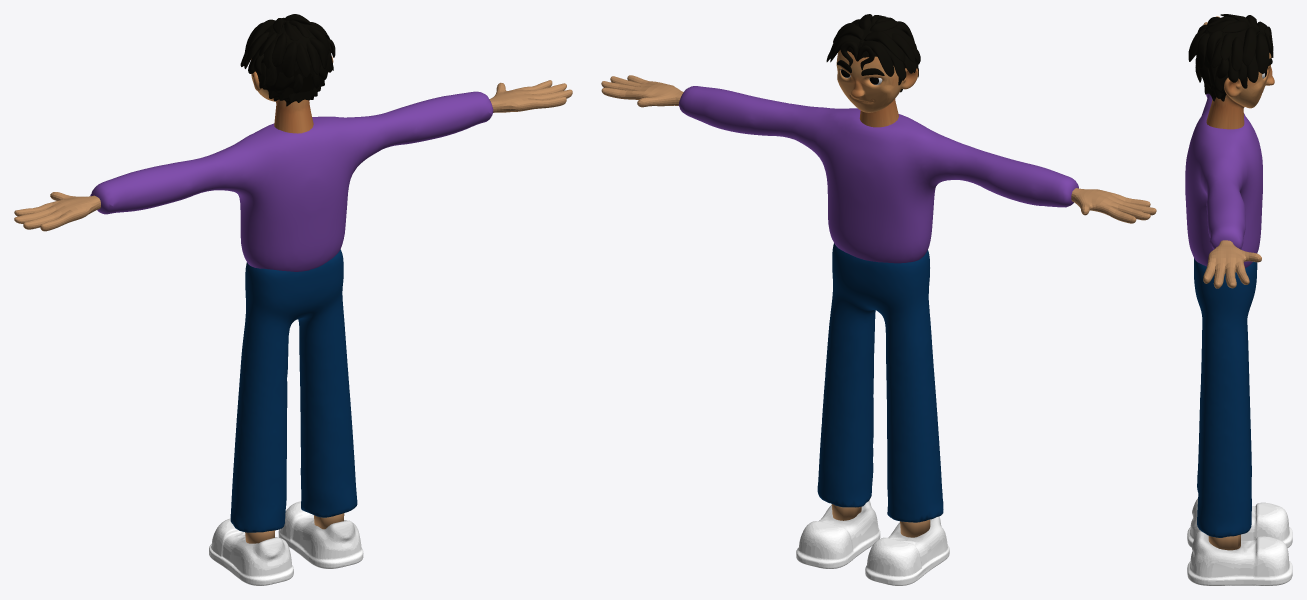
The picture shows the model from 3 angles, left to right: view 1: azimuth 30°, elevation 25°; view 2: azimuth 150°, elevation 25°; view 3: azimuth 270°, elevation 25°; orthographic projection.
Visible parts, largest first — view 1: Cube, PANTS, shoe, heart, Plane, head; view 2: Cube, PANTS, shoe, heart, Plane, head, abkle; view 3: PANTS, Cube, shoe, heart, head, Plane, abkle.
Boxes of the visible parts, x1=… form: Cube: x1=90, y1=91, x2=493, y2=271; PANTS: x1=230, y1=249, x2=357, y2=532; shoe: x1=209, y1=501, x2=363, y2=585; heart: x1=240, y1=14, x2=335, y2=106; Plane: x1=14, y1=80, x2=572, y2=231; head: x1=251, y1=56, x2=333, y2=133; Cube: x1=678, y1=86, x2=1078, y2=263; PANTS: x1=817, y1=243, x2=943, y2=522; shoe: x1=796, y1=500, x2=949, y2=585; heart: x1=826, y1=14, x2=920, y2=92; Plane: x1=601, y1=75, x2=1156, y2=223; head: x1=836, y1=50, x2=918, y2=127; abkle: x1=831, y1=504, x2=930, y2=537; PANTS: x1=1194, y1=258, x2=1257, y2=537; Cube: x1=1185, y1=93, x2=1262, y2=267; shoe: x1=1187, y1=498, x2=1292, y2=585; heart: x1=1188, y1=14, x2=1273, y2=101; head: x1=1206, y1=53, x2=1274, y2=129; Plane: x1=1203, y1=16, x2=1261, y2=288; abkle: x1=1208, y1=534, x2=1240, y2=550.
Size of the model in its own units: 15.91 by 14.86 by 2.68.
